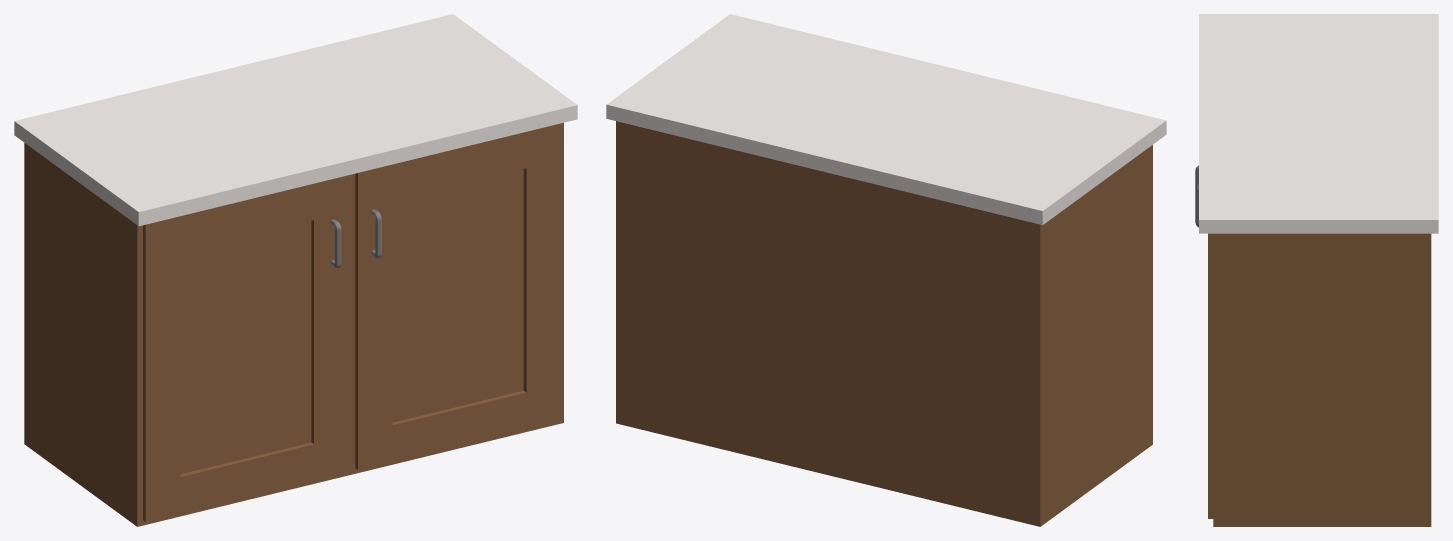
File: Kitchen Tabletop_04.fbx
The picture shows the model from 3 angles, left to right: view 1: azimuth 30°, elevation 25°; view 2: azimuth 150°, elevation 25°; view 3: azimuth 270°, elevation 25°; orthographic projection. The views are drawn at different scales.
Visible parts, largest first — view 1: Kitchen Tabletop_04; view 2: Kitchen Tabletop_04; view 3: Kitchen Tabletop_04.
Boxes of the visible parts, box(x1,y1,x2,y2) form: Kitchen Tabletop_04: box(14, 14, 577, 526); Kitchen Tabletop_04: box(606, 14, 1166, 526); Kitchen Tabletop_04: box(1195, 14, 1438, 526).
Size of the model in its own units: 127 by 89.04 by 63.33.
